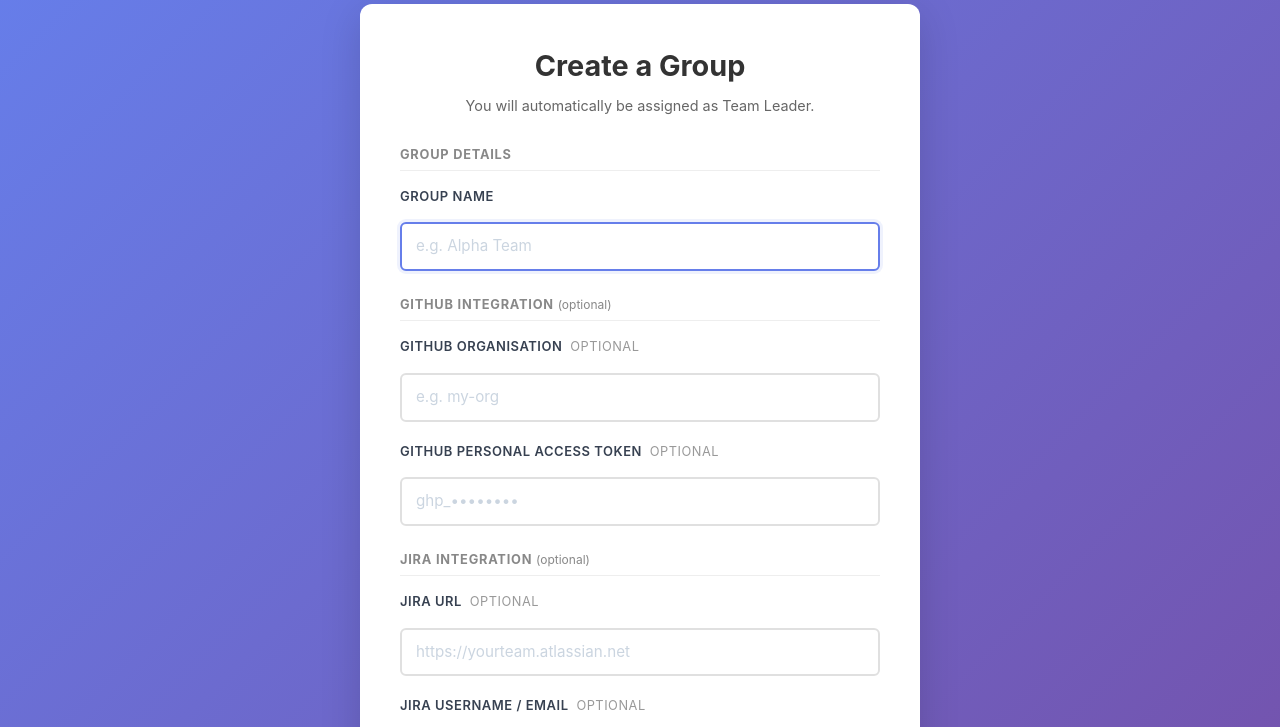
Test: GroupCreationPage › Group Creation Form › shows error on schedule window closed
Type "New Group" into the field labelled "Group Name".
click(640, 247); type("New Group")  # box [400,222,880,271]
(page scrolled)
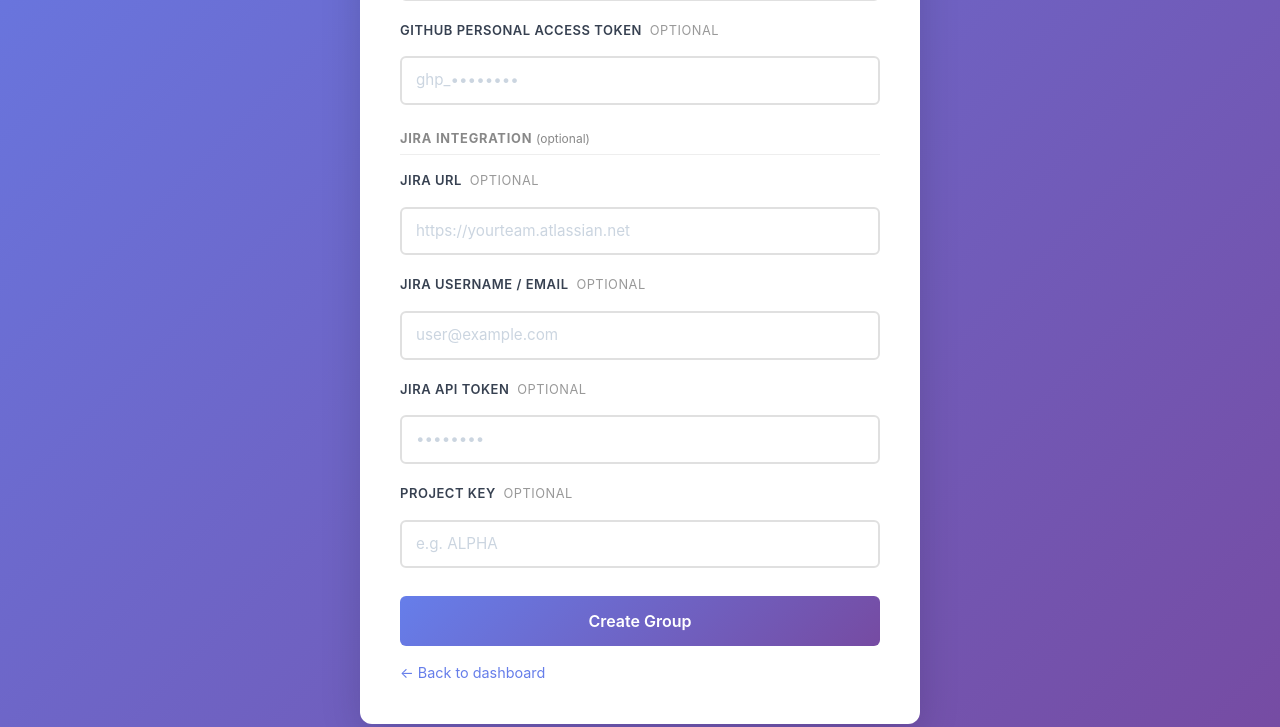
Click the button "Create Group".
click(640, 621)  # box [400,596,880,646]
(page scrolled)
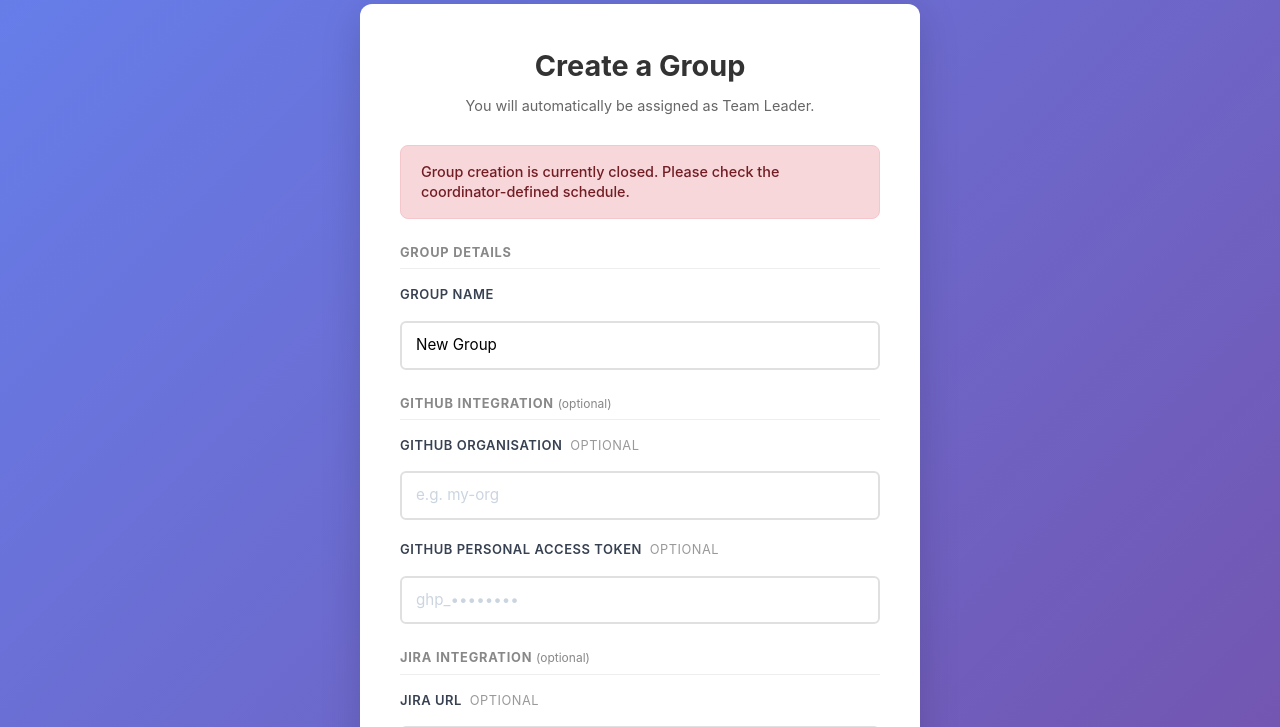
expect the text "Group creation is currently closed" is shown: met, box [421,163,779,200]
